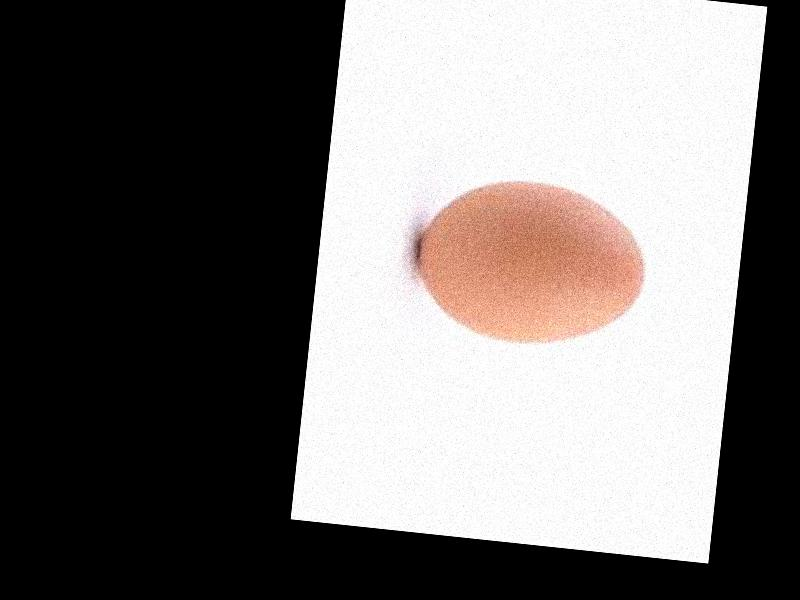Eggs: (411, 169, 652, 354)
